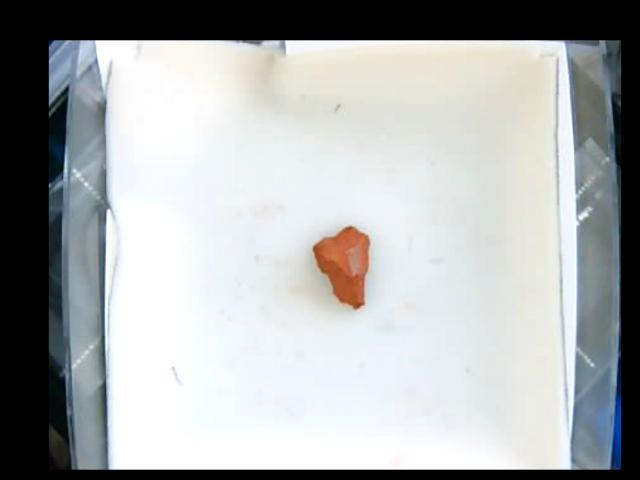Brisk: (309, 224, 369, 309)
